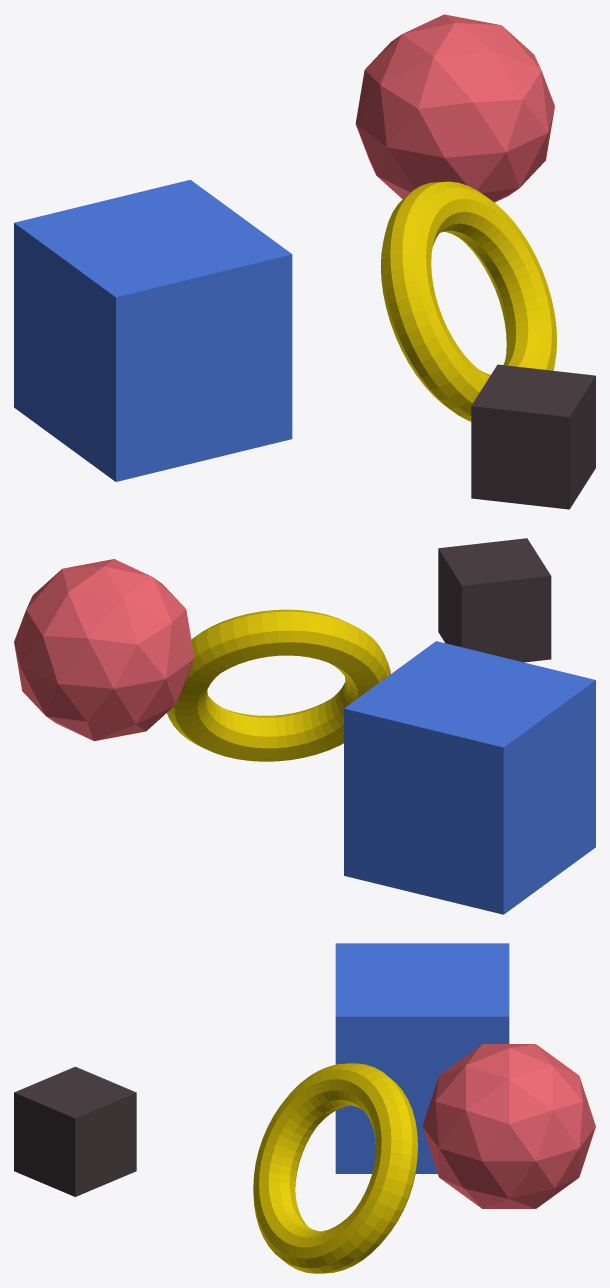
3 views of the same model, one above another, from view 1: azimuth 30°, elevation 25°; view 2: azimuth 150°, elevation 25°; view 3: azimuth 270°, elevation 25° (orthographic). The views are drawn at different scales.
Parts seen in each view (by area): view 1: cube_blue, icosphere, torus, cube_black; view 2: cube_blue, icosphere, torus, cube_black; view 3: cube_blue, icosphere, torus, cube_black.
Part boxes in pixels (x1,y1,x2,y2): cube_blue: [14, 179, 292, 481]; icosphere: [355, 14, 554, 202]; torus: [380, 181, 556, 421]; cube_black: [471, 364, 595, 509]; cube_blue: [344, 641, 595, 914]; icosphere: [14, 559, 194, 741]; torus: [167, 609, 390, 761]; cube_black: [438, 538, 551, 662]; cube_blue: [335, 943, 509, 1173]; icosphere: [422, 1044, 595, 1208]; torus: [253, 1063, 417, 1273]; cube_black: [14, 1066, 136, 1196].
Size of what is drawn, in the model's own units: 5.95 by 3.12 by 6.71.
